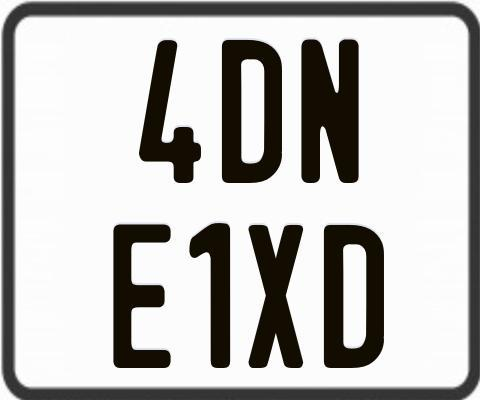1: (189, 222, 230, 368)
4: (137, 39, 205, 184)
D: (321, 224, 386, 370), (221, 39, 281, 183)
E: (113, 221, 171, 369)
N: (301, 39, 362, 184)
X: (246, 223, 303, 366)
